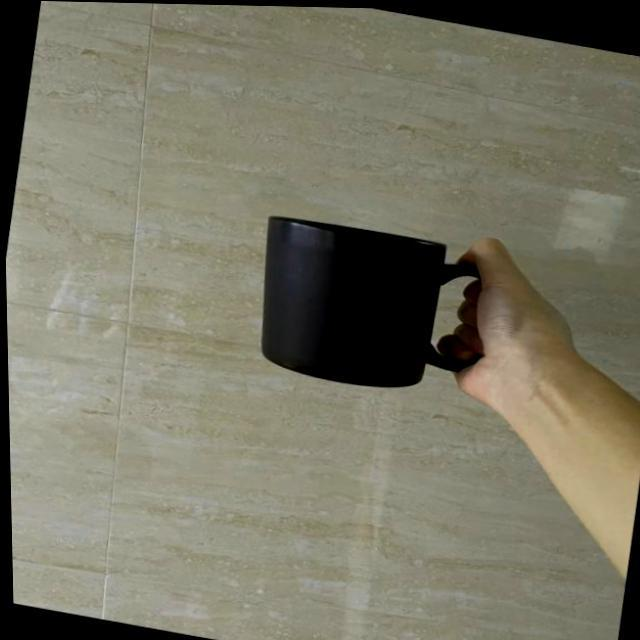cup: (249, 214, 268, 374)
